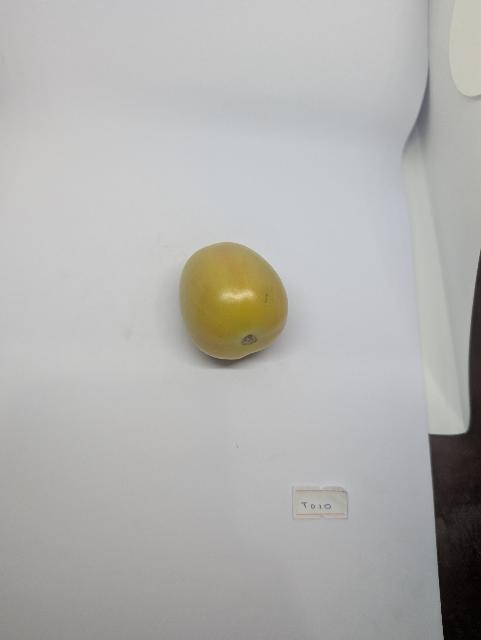breaker: (179, 243, 288, 360)
